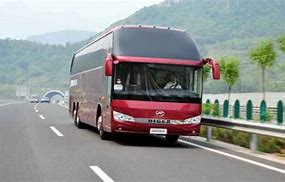bigcar: (65, 21, 220, 142)
